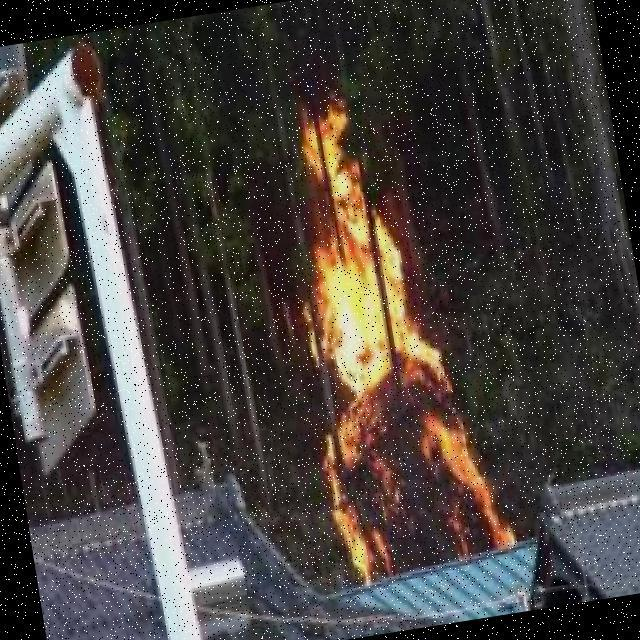Fire: (266, 86, 511, 582)
